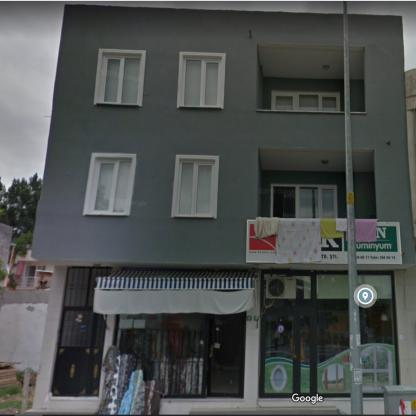door: (52, 308, 104, 397), (259, 312, 300, 397), (206, 313, 244, 396), (64, 266, 111, 307), (271, 185, 295, 217)
window: (261, 270, 350, 397), (114, 313, 205, 396), (358, 270, 399, 396), (88, 157, 133, 214), (97, 52, 141, 104), (176, 159, 214, 216), (181, 55, 221, 107), (272, 92, 339, 112), (296, 185, 336, 217)
